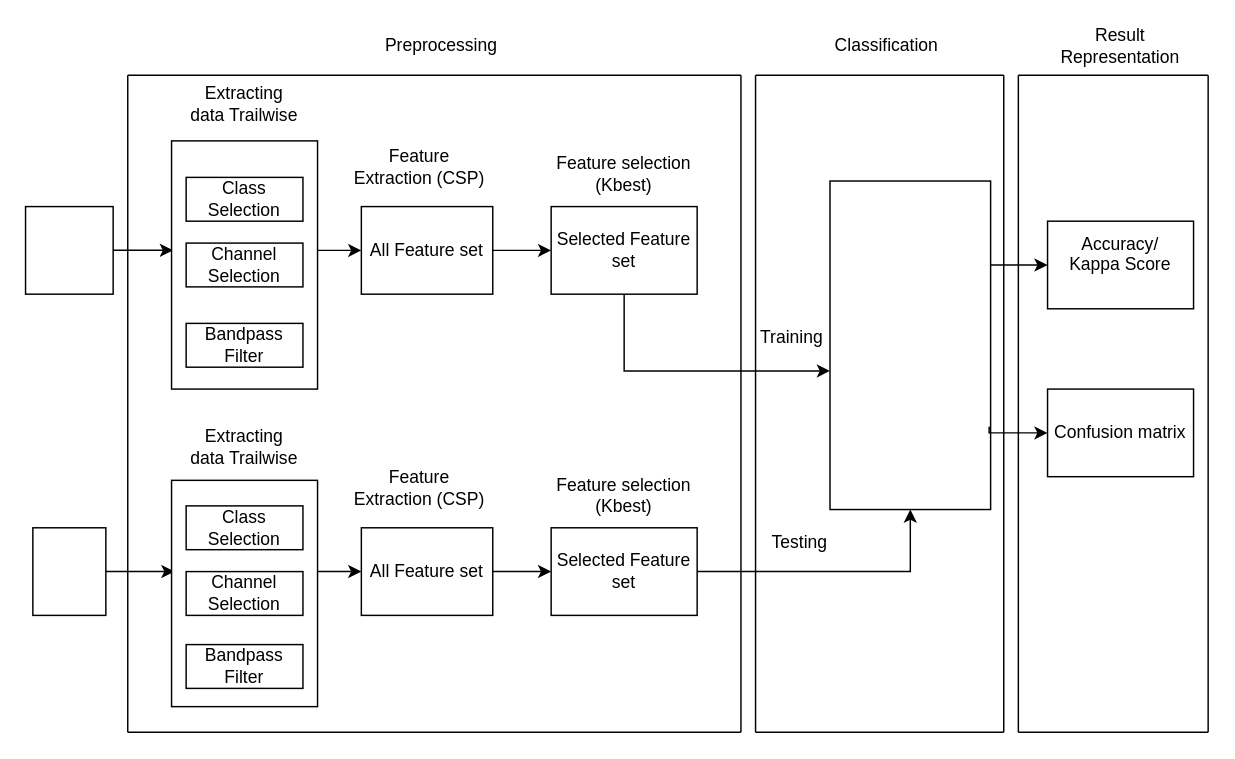
Image size: 1235x759. Some labels were removed from this diagram. The shapes that lost their labels are listed below. From the top down, each one's centre as x and y in pixels, then its label:
At pixel 68 249: "Training Set".
At pixel 910 345: "Selected Classifiers".
At pixel 68 570: "Testing Set".
